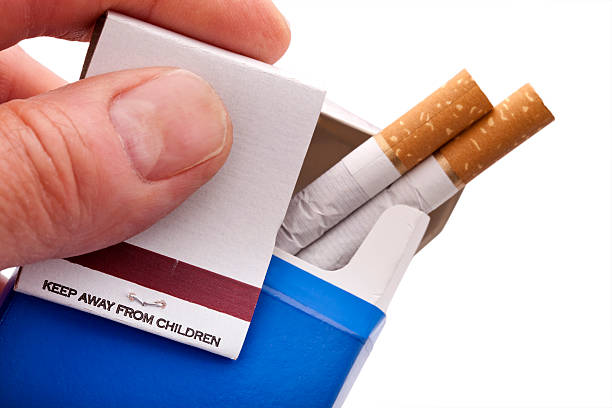cigarette: (0, 8, 468, 408), (296, 80, 556, 272), (274, 67, 495, 255)
